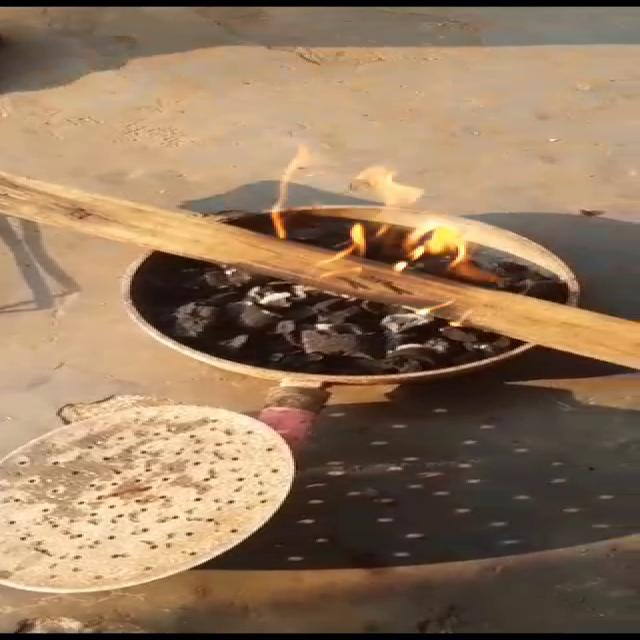Fire: (251, 137, 514, 286)
